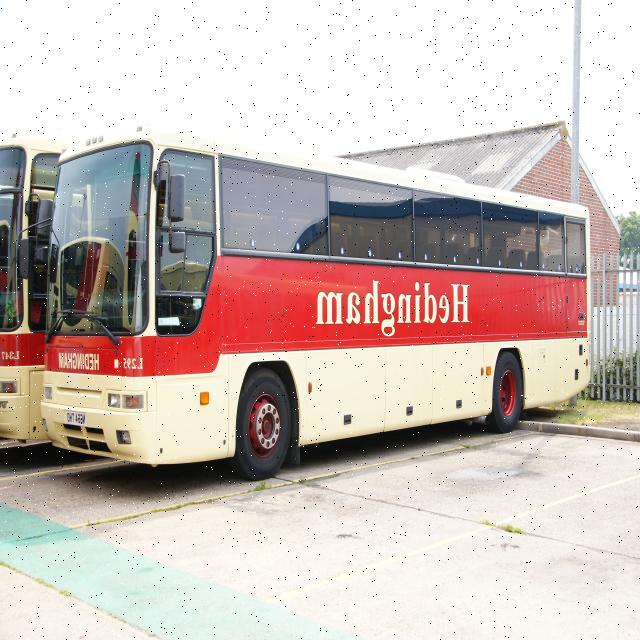Bus: (43, 129, 591, 476), (0, 134, 63, 436)
